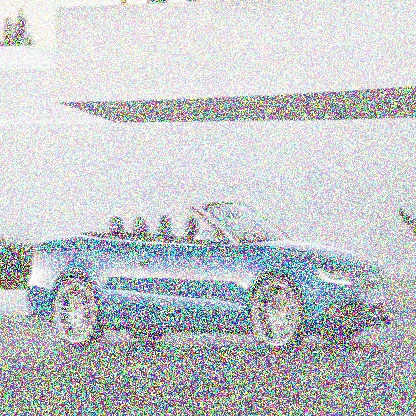Vehicle: (27, 200, 391, 350)
